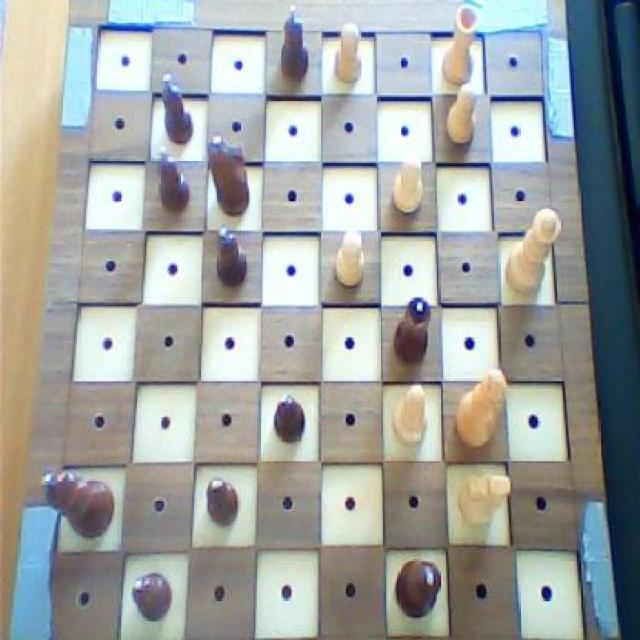black-bishop: (38, 462, 117, 543)
black-king: (205, 129, 253, 220)
black-knight: (154, 68, 197, 147), (209, 218, 250, 292), (277, 1, 311, 84), (152, 146, 192, 214), (201, 472, 244, 534), (128, 568, 173, 624), (269, 389, 309, 446)
black-pawn: (392, 552, 443, 623)
black-queen: (389, 296, 434, 372)
black-rook: (389, 382, 431, 448)
white-bishop: (451, 363, 509, 454)
white-king: (455, 469, 517, 530)
white-knight: (444, 76, 484, 152), (330, 15, 366, 87), (330, 223, 368, 291), (389, 152, 427, 216)
white-pawn: (502, 203, 562, 299)
white-queen: (440, 0, 485, 89)
